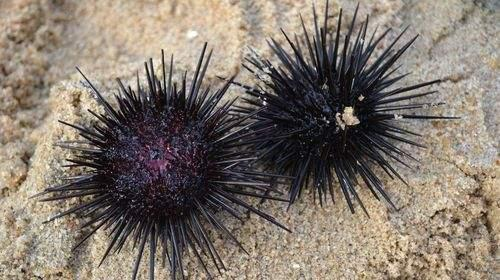urchin: (30, 36, 294, 275), (225, 3, 464, 222)
